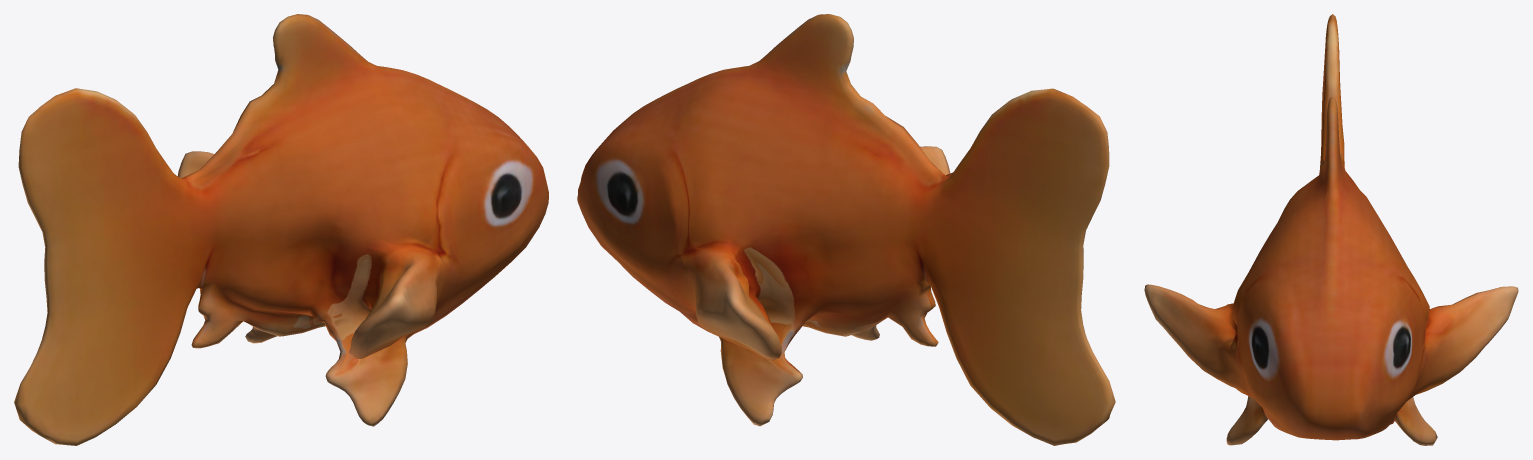
The model's file is fish_20.glb.
3 views of the same model, side by side, from view 1: azimuth 30°, elevation 25°; view 2: azimuth 150°, elevation 25°; view 3: azimuth 270°, elevation 25° (orthographic). The views are drawn at different scales.
Visible parts, largest first — view 1: mesh; view 2: mesh; view 3: mesh.
Part boxes in pixels (x1,y1,x2,y2): mesh: (14, 14, 548, 445); mesh: (577, 14, 1115, 445); mesh: (1144, 14, 1518, 445).
Size of the model in its own units: 0.9982 by 0.6818 by 0.687.
Materials: 1 (1 with a texture image).
